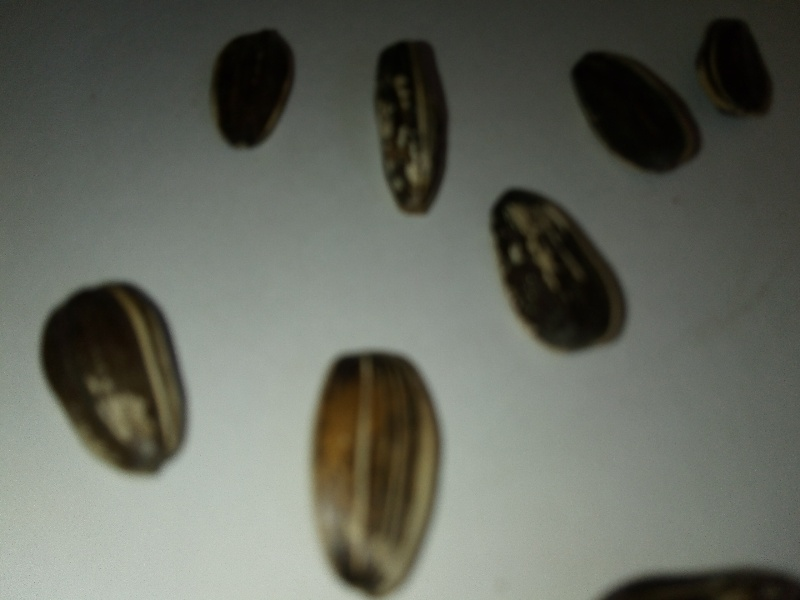girasol: (29, 269, 204, 487)
w: (296, 339, 450, 600), (478, 180, 639, 361)
